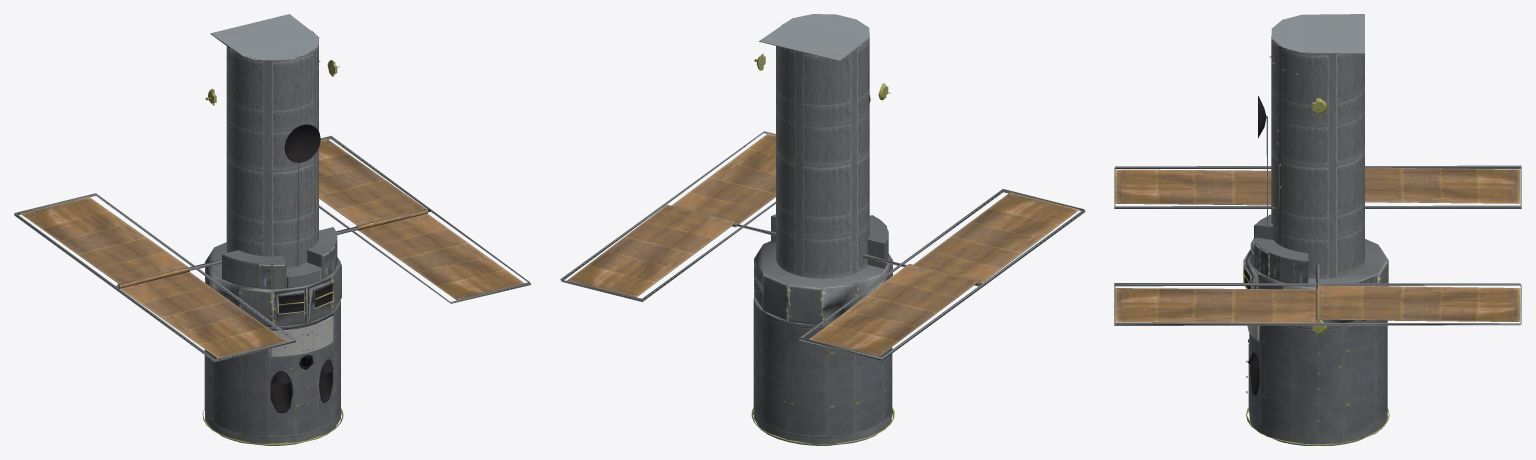
Rendered from hubble.glb.
3 renders of one model, left to right at view 1: azimuth 30°, elevation 25°; view 2: azimuth 150°, elevation 25°; view 3: azimuth 270°, elevation 25°, orthographic.
Parts seen in each view (by area): view 1: hst; view 2: hst; view 3: hst.
Boxes of the visible parts, bbox=[...] form: hst: bbox=[14, 14, 531, 445]; hst: bbox=[560, 14, 1085, 445]; hst: bbox=[1114, 14, 1521, 445].
Bounding box in the file's own units: 457 × 525 × 500.
5 materials, 5 textured.
